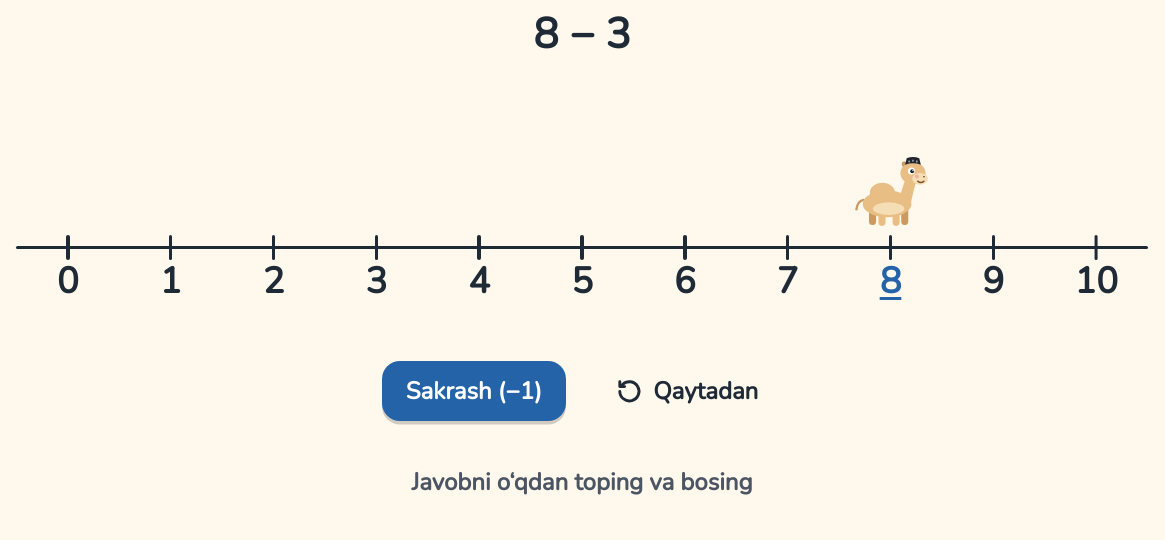
Test: number-line › orqaga sakraydi va javobni tekshiradi
Expected: the button named "8, belgi shu yerda" is shown, x1=866 y1=235 x2=914 y2=307
Click the button "Sakrash (−1)" at x=474, y=391, box x1=382 y1=361 x2=566 y2=421
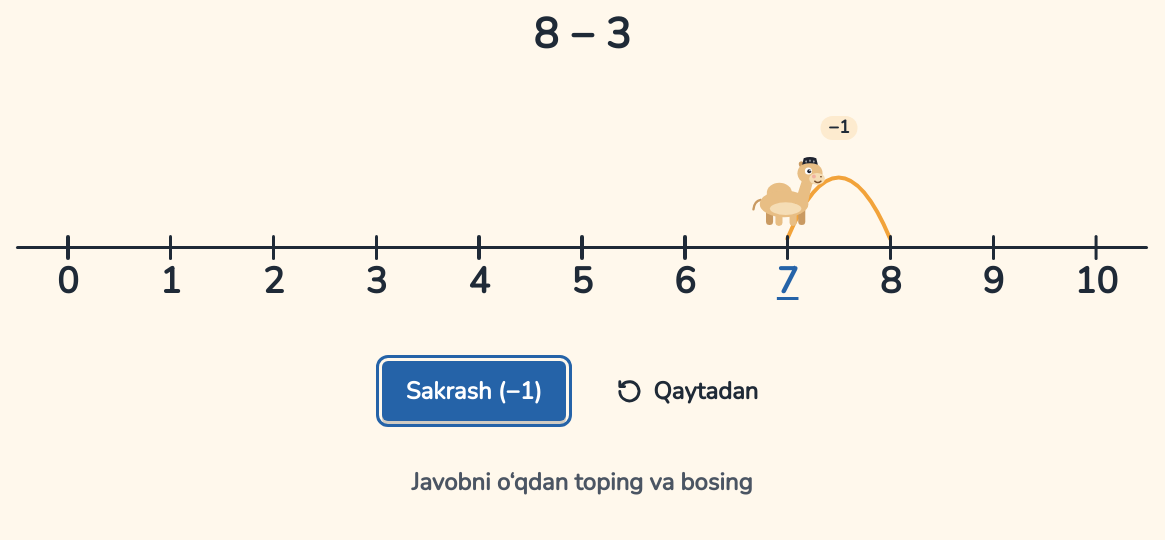
Click the button "Sakrash (−1)" at x=474, y=391, box x1=382 y1=361 x2=566 y2=421
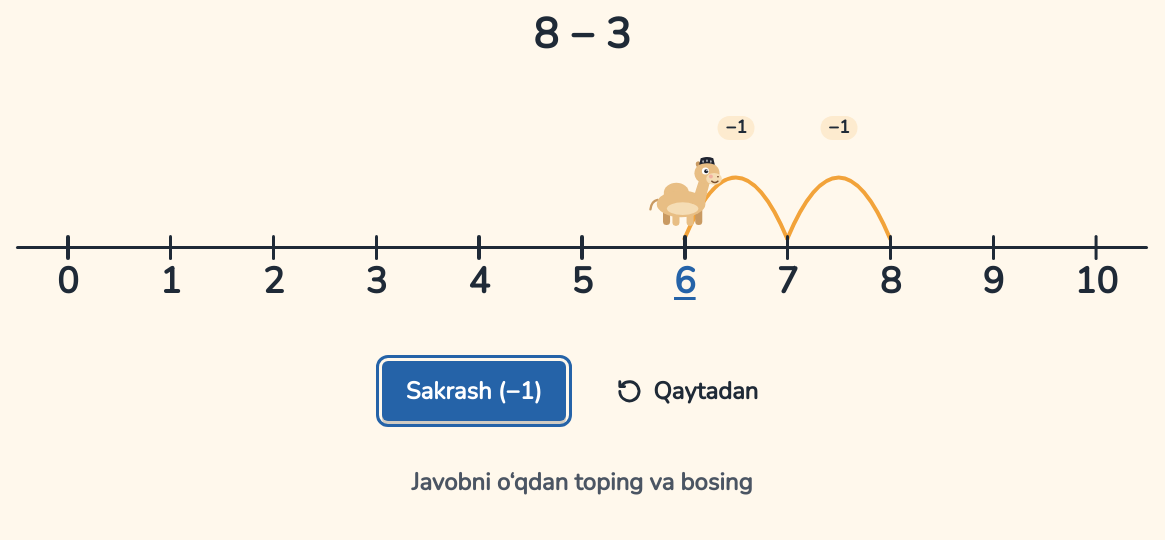
Click the button "Sakrash (−1)" at x=474, y=391, box x1=382 y1=361 x2=566 y2=421
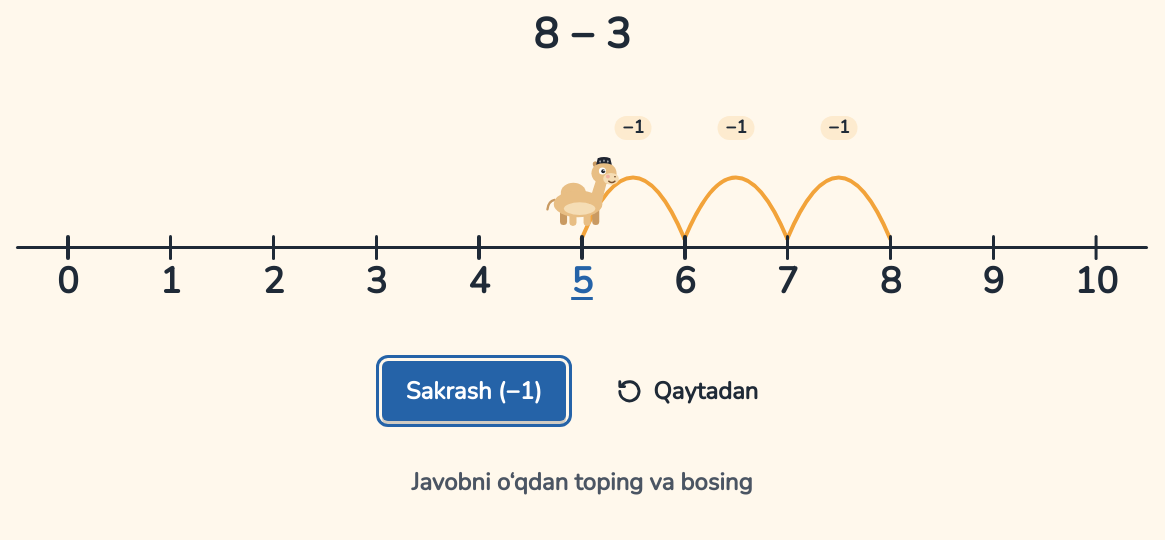
Expected: the button named "5, belgi shu yerda" is shown, x1=558 y1=235 x2=606 y2=307
Click the button "4" at x=479, y=271, box x1=455 y1=235 x2=503 y2=307
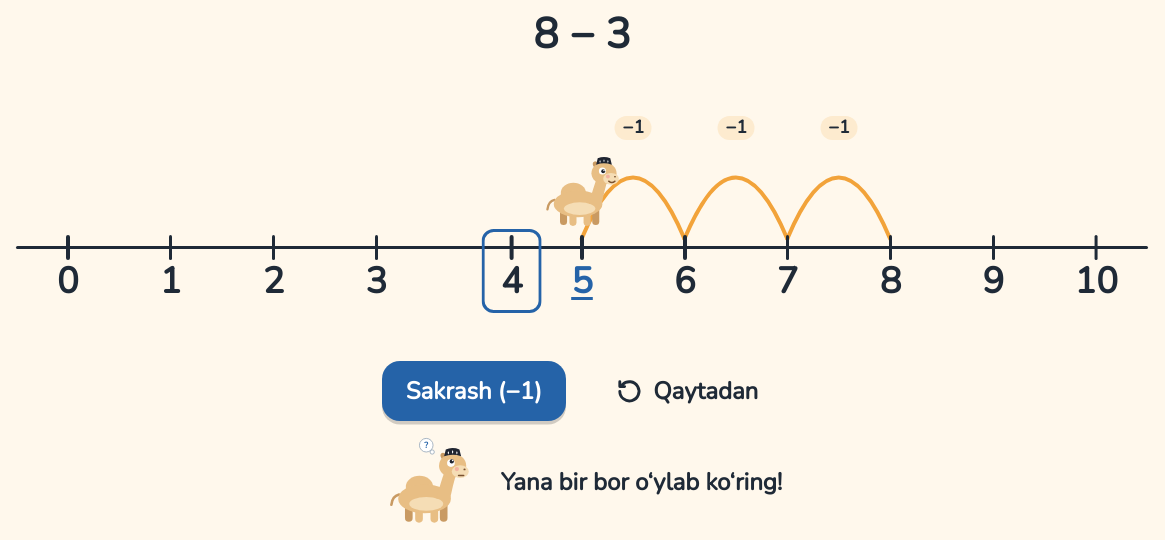
Expected: the text "Yana bir bor o‘ylab ko‘ring!" is shown, x1=501 y1=466 x2=782 y2=498
Click the button "5" at x=582, y=271, box x1=558 y1=235 x2=606 y2=307
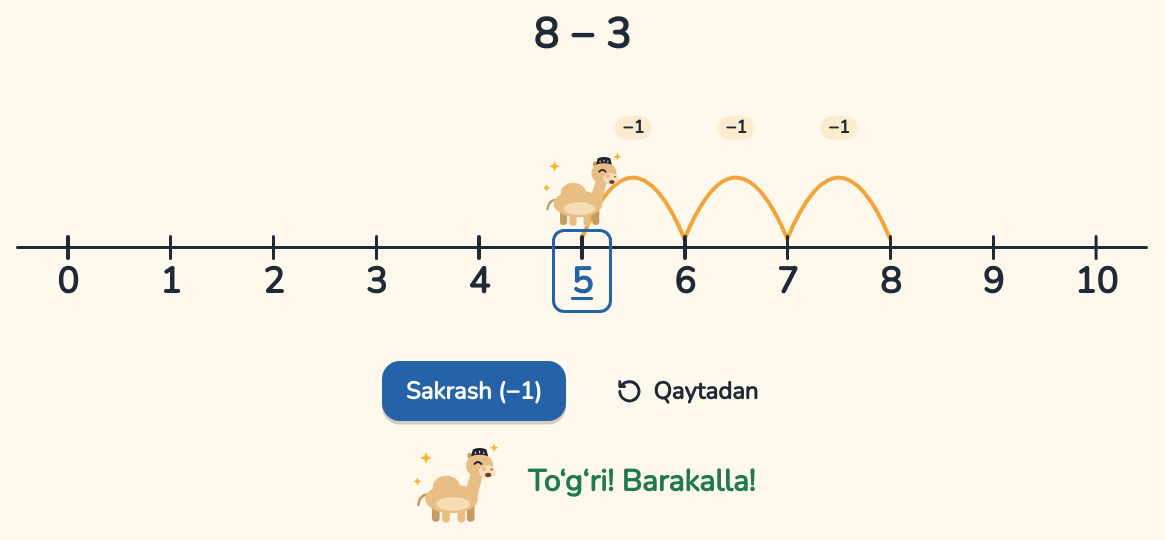
Expected: the text "To‘g‘ri! Barakalla!" is shown, x1=528 y1=463 x2=755 y2=501
